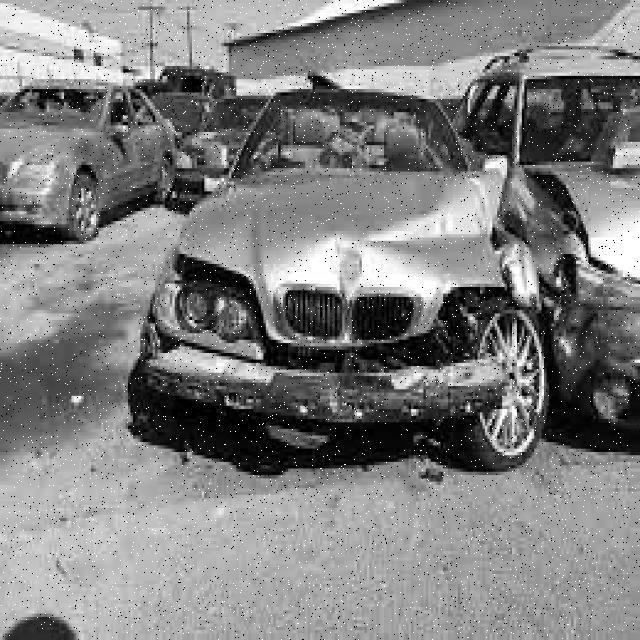bonnet-dent: (185, 180, 497, 308)
front-bumper-dent: (148, 287, 517, 425)
